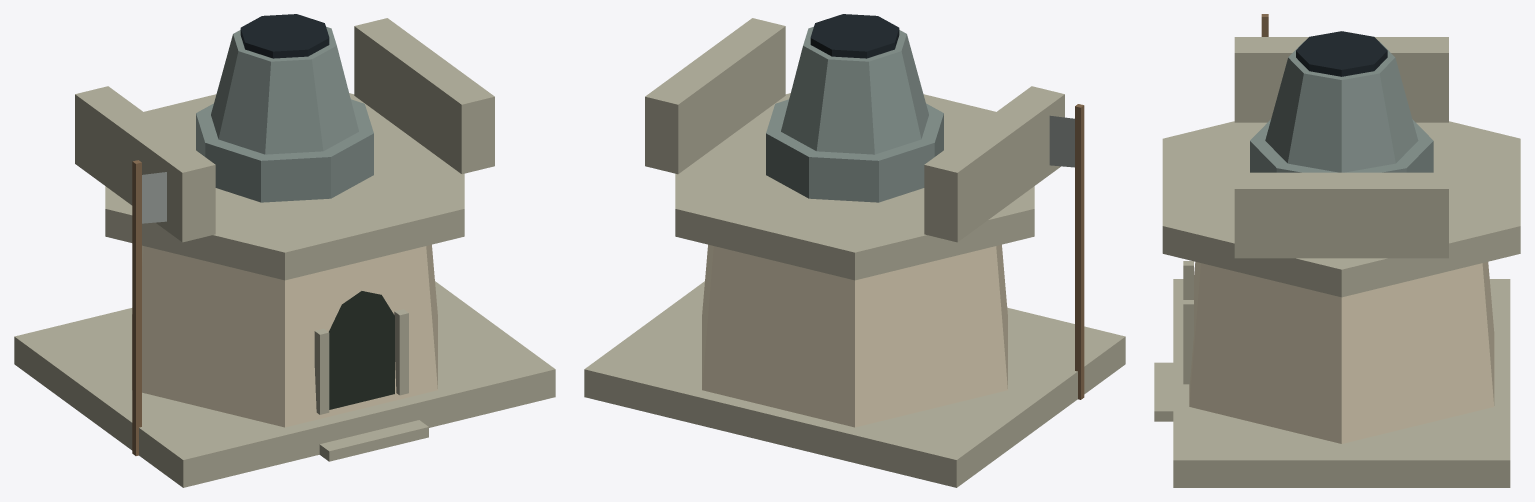
File: fort-mortar.glb
3 views of the same model, side by side, from view 1: azimuth 30°, elevation 25°; view 2: azimuth 150°, elevation 25°; view 3: azimuth 270°, elevation 25° (orthographic).
Parts seen in each view (by area): view 1: Building; view 2: Building; view 3: Building.
Boxes of the visible parts, x1,y1,x2,y2 form: Building: (14,14,555,487); Building: (584,14,1125,487); Building: (1154,14,1520,487).
Size of the model in its own units: 56.45 by 50 by 47.88.
